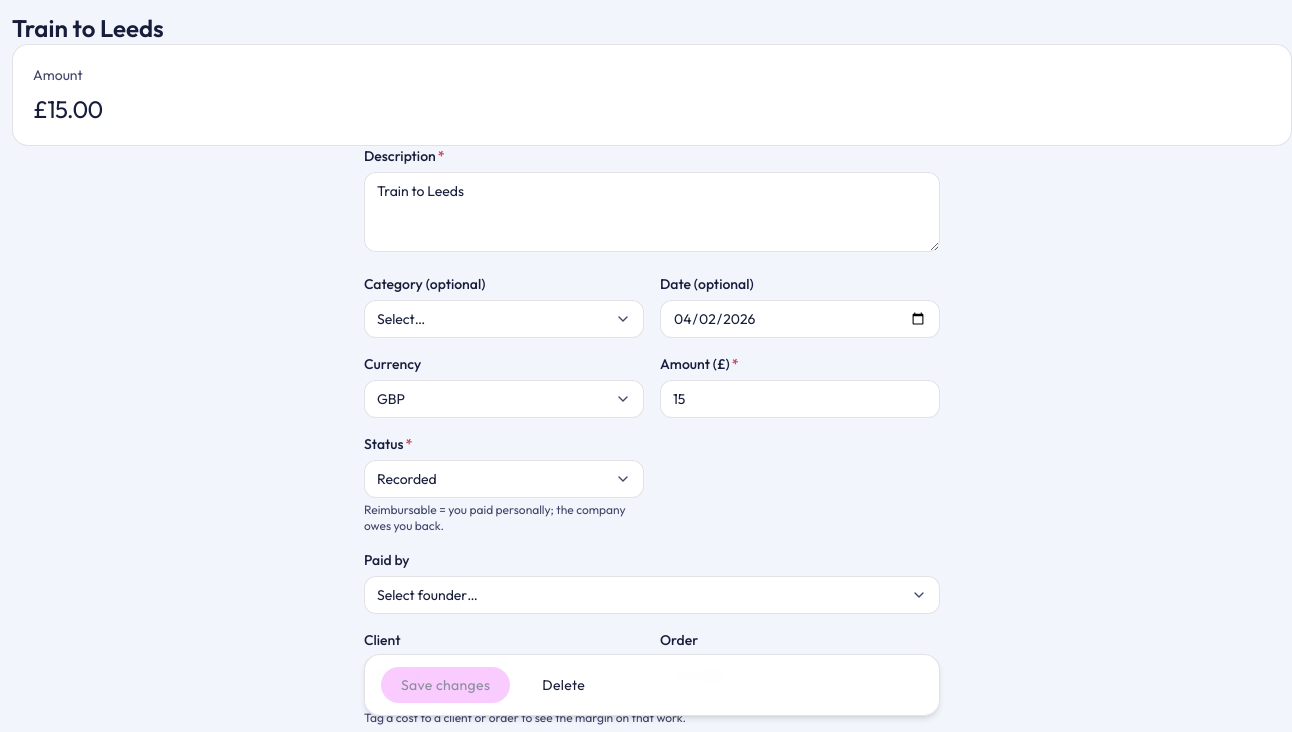
foreign currency amounts › asks for the GBP amount when there's no exchange rate
Click the dropdown named "Currency".
click(391, 399)  # box x1=364 y1=380 x2=644 y2=418
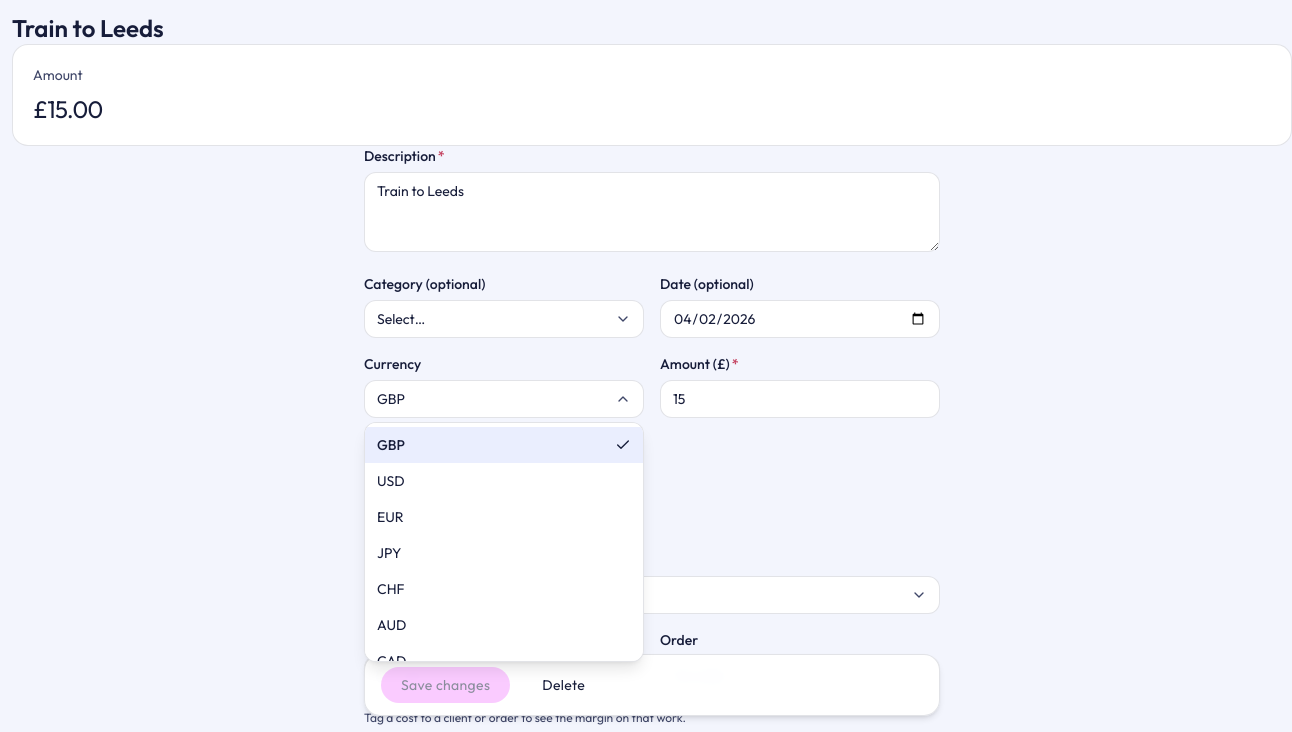
Click the option "USD".
click(391, 481)  # box x1=377 y1=472 x2=405 y2=490
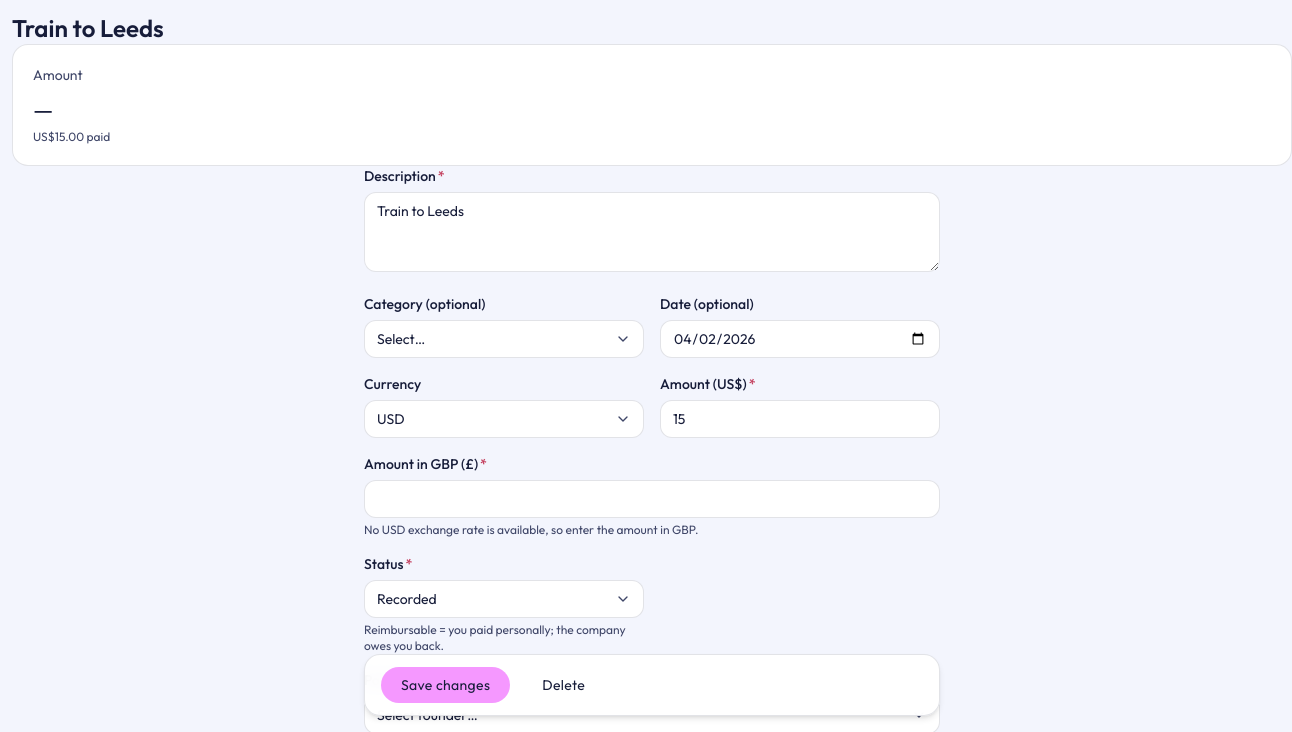
Check: the text "No USD exchange rate is available" is shown, box x1=364 y1=522 x2=698 y2=537
Check: the field labelled "Amount in GBP (£)*" is empty, box x1=364 y1=480 x2=940 y2=518
Check: the text "—" is shown, box x1=33 y1=94 x2=53 y2=124
